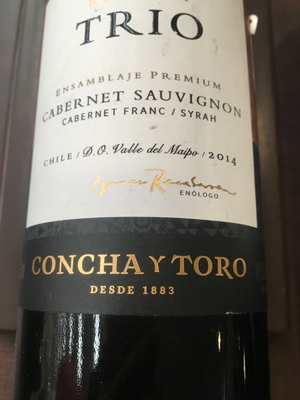trio cabernet sauvignon: (29, 2, 269, 400)
